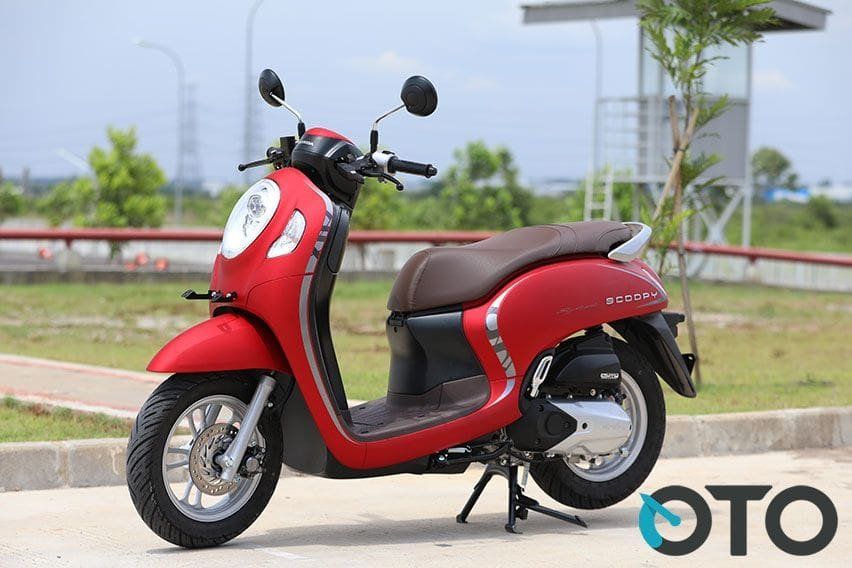motor: (126, 106, 679, 527)
